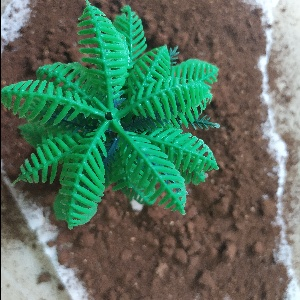plant: (7, 11, 215, 222)
